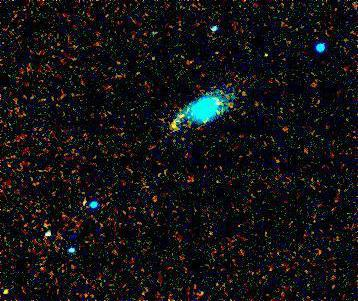star: (159, 110, 189, 140)
